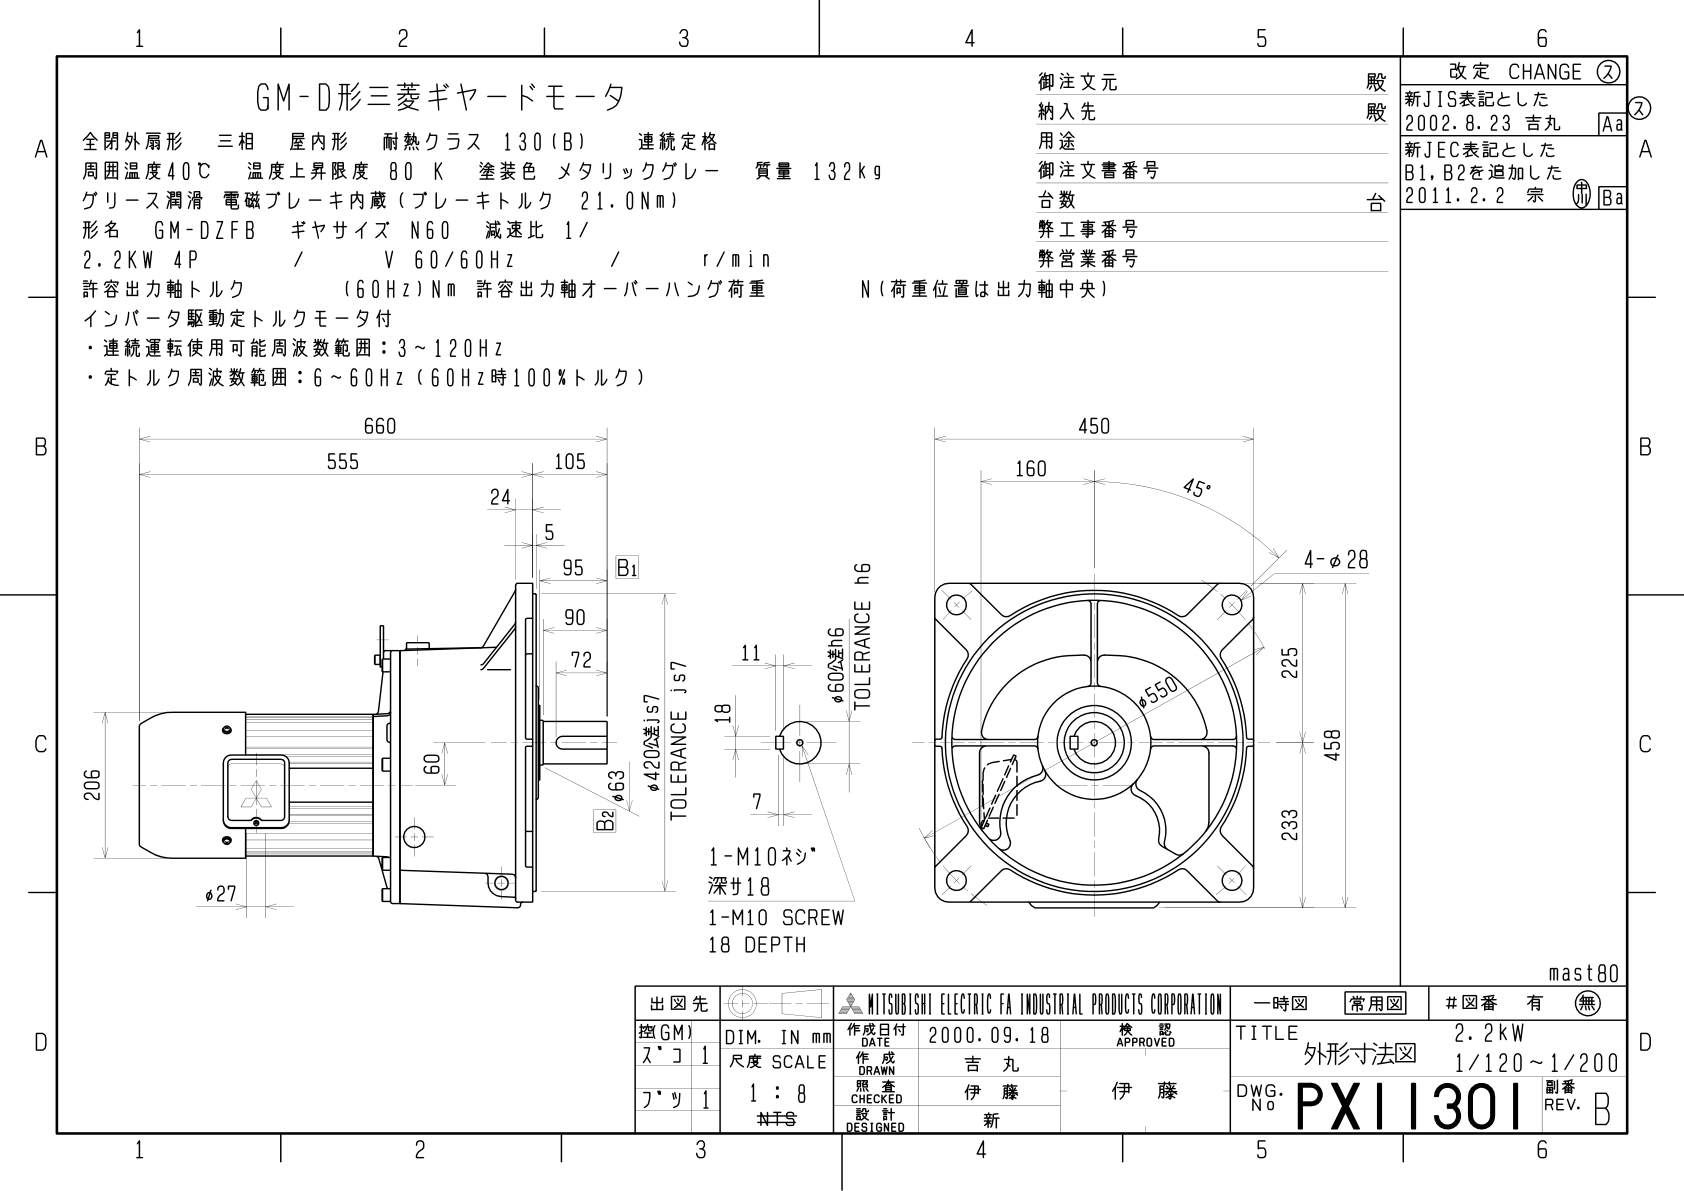GM_D_インバータ屋内_三相_フランジ: (70, 396, 1383, 971)
